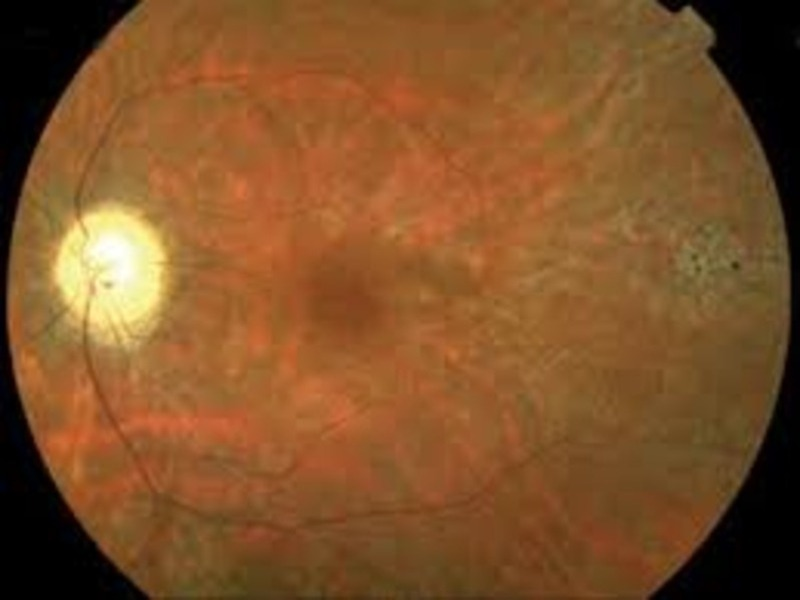Optic Cup: (82, 234, 137, 282)
Optic Disc: (57, 209, 160, 337)
